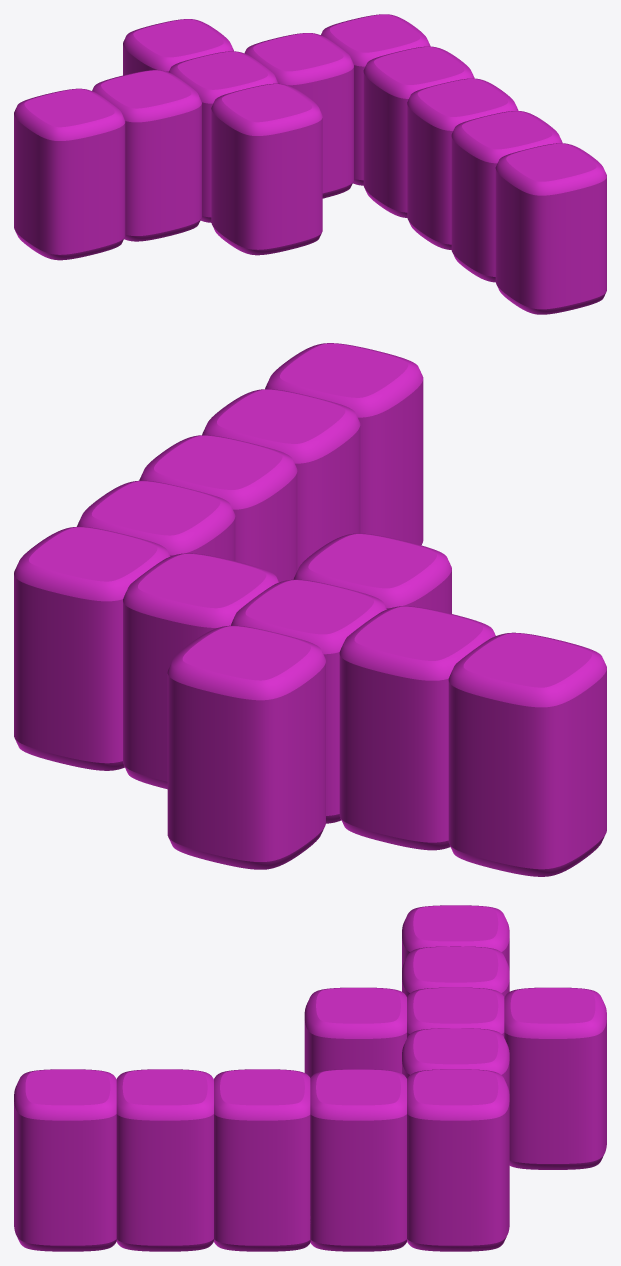
Rendered from Number_4.fbx.
The picture shows the model from 3 angles, top to bottom: view 1: azimuth 30°, elevation 25°; view 2: azimuth 150°, elevation 25°; view 3: azimuth 270°, elevation 25°; orthographic projection. The views are drawn at different scales.
Parts seen in each view (by area): view 1: Number_4; view 2: Number_4; view 3: Number_4.
Boxes of the visible parts, left/top/right/bottom form: Number_4: left=14, top=14, right=606, bottom=314; Number_4: left=14, top=343, right=606, bottom=876; Number_4: left=14, top=905, right=606, bottom=1251.
Size of the model in its own units: 0.4311 by 0.14 by 0.5157.
